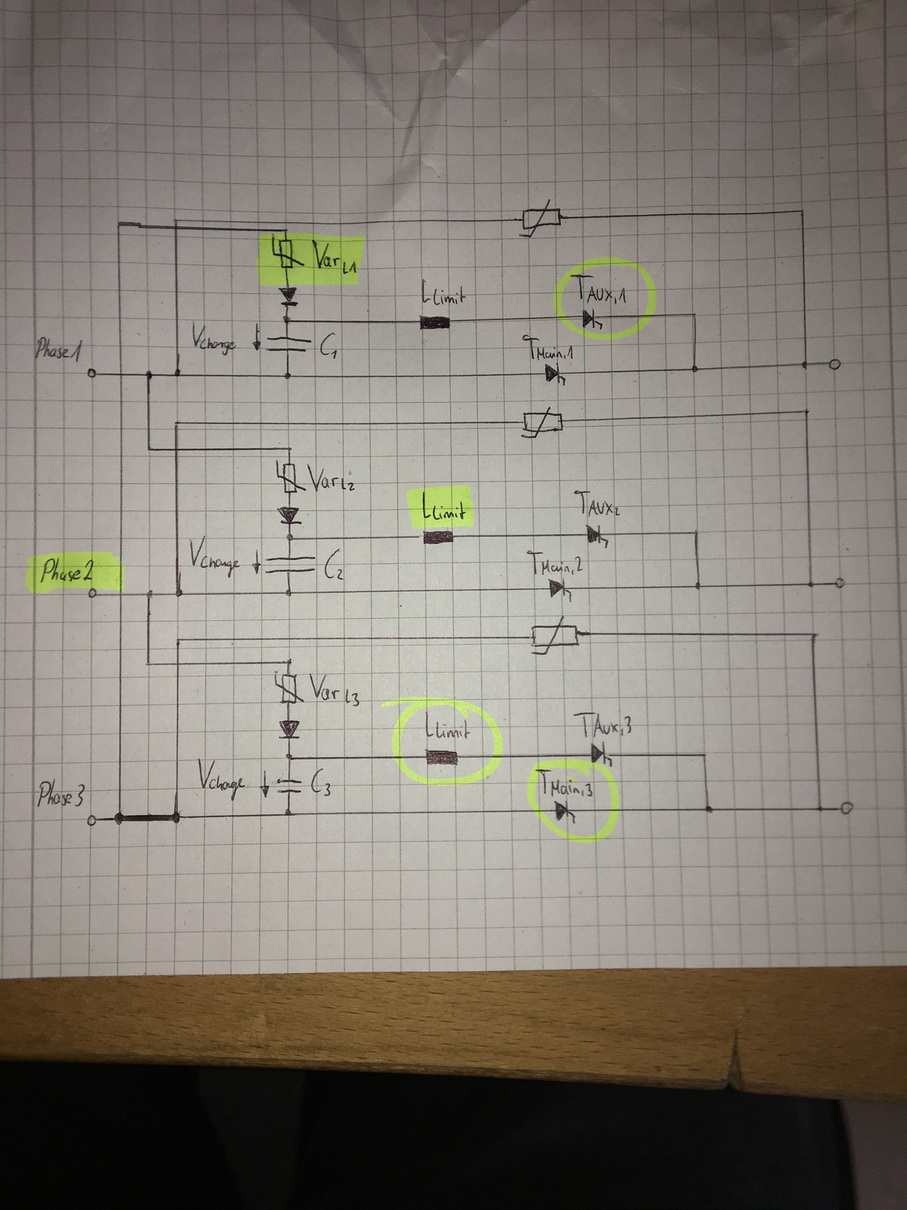capacitor.unpolarized: (263, 554, 317, 577), (264, 334, 314, 355), (273, 777, 304, 796)
crossover: (115, 367, 127, 381), (115, 589, 127, 601), (171, 444, 182, 455), (174, 659, 183, 669), (172, 224, 181, 232)
diode: (276, 505, 303, 526), (276, 719, 301, 741), (277, 286, 300, 308)
inductor: (423, 748, 460, 767), (417, 529, 456, 546), (417, 314, 452, 331)
junction: (110, 809, 128, 827), (169, 809, 185, 826), (281, 806, 296, 820), (807, 629, 820, 644), (280, 370, 296, 381), (703, 802, 715, 816), (143, 368, 155, 382), (144, 588, 157, 600), (172, 367, 185, 379), (688, 363, 701, 375), (172, 587, 184, 599), (805, 578, 817, 590), (800, 359, 812, 371), (284, 443, 296, 455), (285, 531, 296, 544), (284, 587, 296, 598), (693, 580, 704, 592), (813, 803, 825, 814), (144, 444, 155, 456), (283, 656, 294, 667), (171, 418, 182, 429), (801, 406, 812, 417), (281, 314, 292, 325), (284, 751, 294, 763), (699, 750, 709, 761), (174, 635, 184, 645), (688, 310, 699, 319), (797, 206, 808, 215), (115, 219, 124, 230), (144, 658, 153, 668), (691, 529, 701, 537), (172, 216, 181, 224), (282, 226, 290, 234)
terminal: (838, 800, 856, 816), (827, 357, 843, 371), (84, 813, 99, 827), (833, 576, 846, 590), (85, 366, 98, 380), (86, 586, 99, 599)
text: (187, 534, 241, 578), (196, 756, 247, 802), (569, 273, 629, 307), (308, 671, 361, 708), (534, 767, 594, 799), (309, 238, 358, 276), (190, 320, 238, 357), (572, 710, 633, 738), (525, 548, 585, 576), (36, 777, 86, 809), (38, 556, 95, 584), (306, 462, 357, 493), (520, 333, 574, 362), (420, 276, 468, 308), (572, 488, 622, 518), (33, 335, 84, 364), (421, 490, 467, 522), (424, 710, 472, 740), (323, 548, 346, 582), (309, 767, 332, 798), (318, 331, 339, 360)
thyristor: (589, 740, 613, 764), (585, 523, 610, 545), (554, 800, 577, 822), (548, 578, 573, 598), (581, 308, 604, 329), (544, 363, 567, 384)
varistor: (530, 615, 580, 656), (518, 198, 563, 238), (520, 406, 564, 440), (271, 233, 305, 269), (274, 458, 307, 494), (273, 671, 306, 705)
